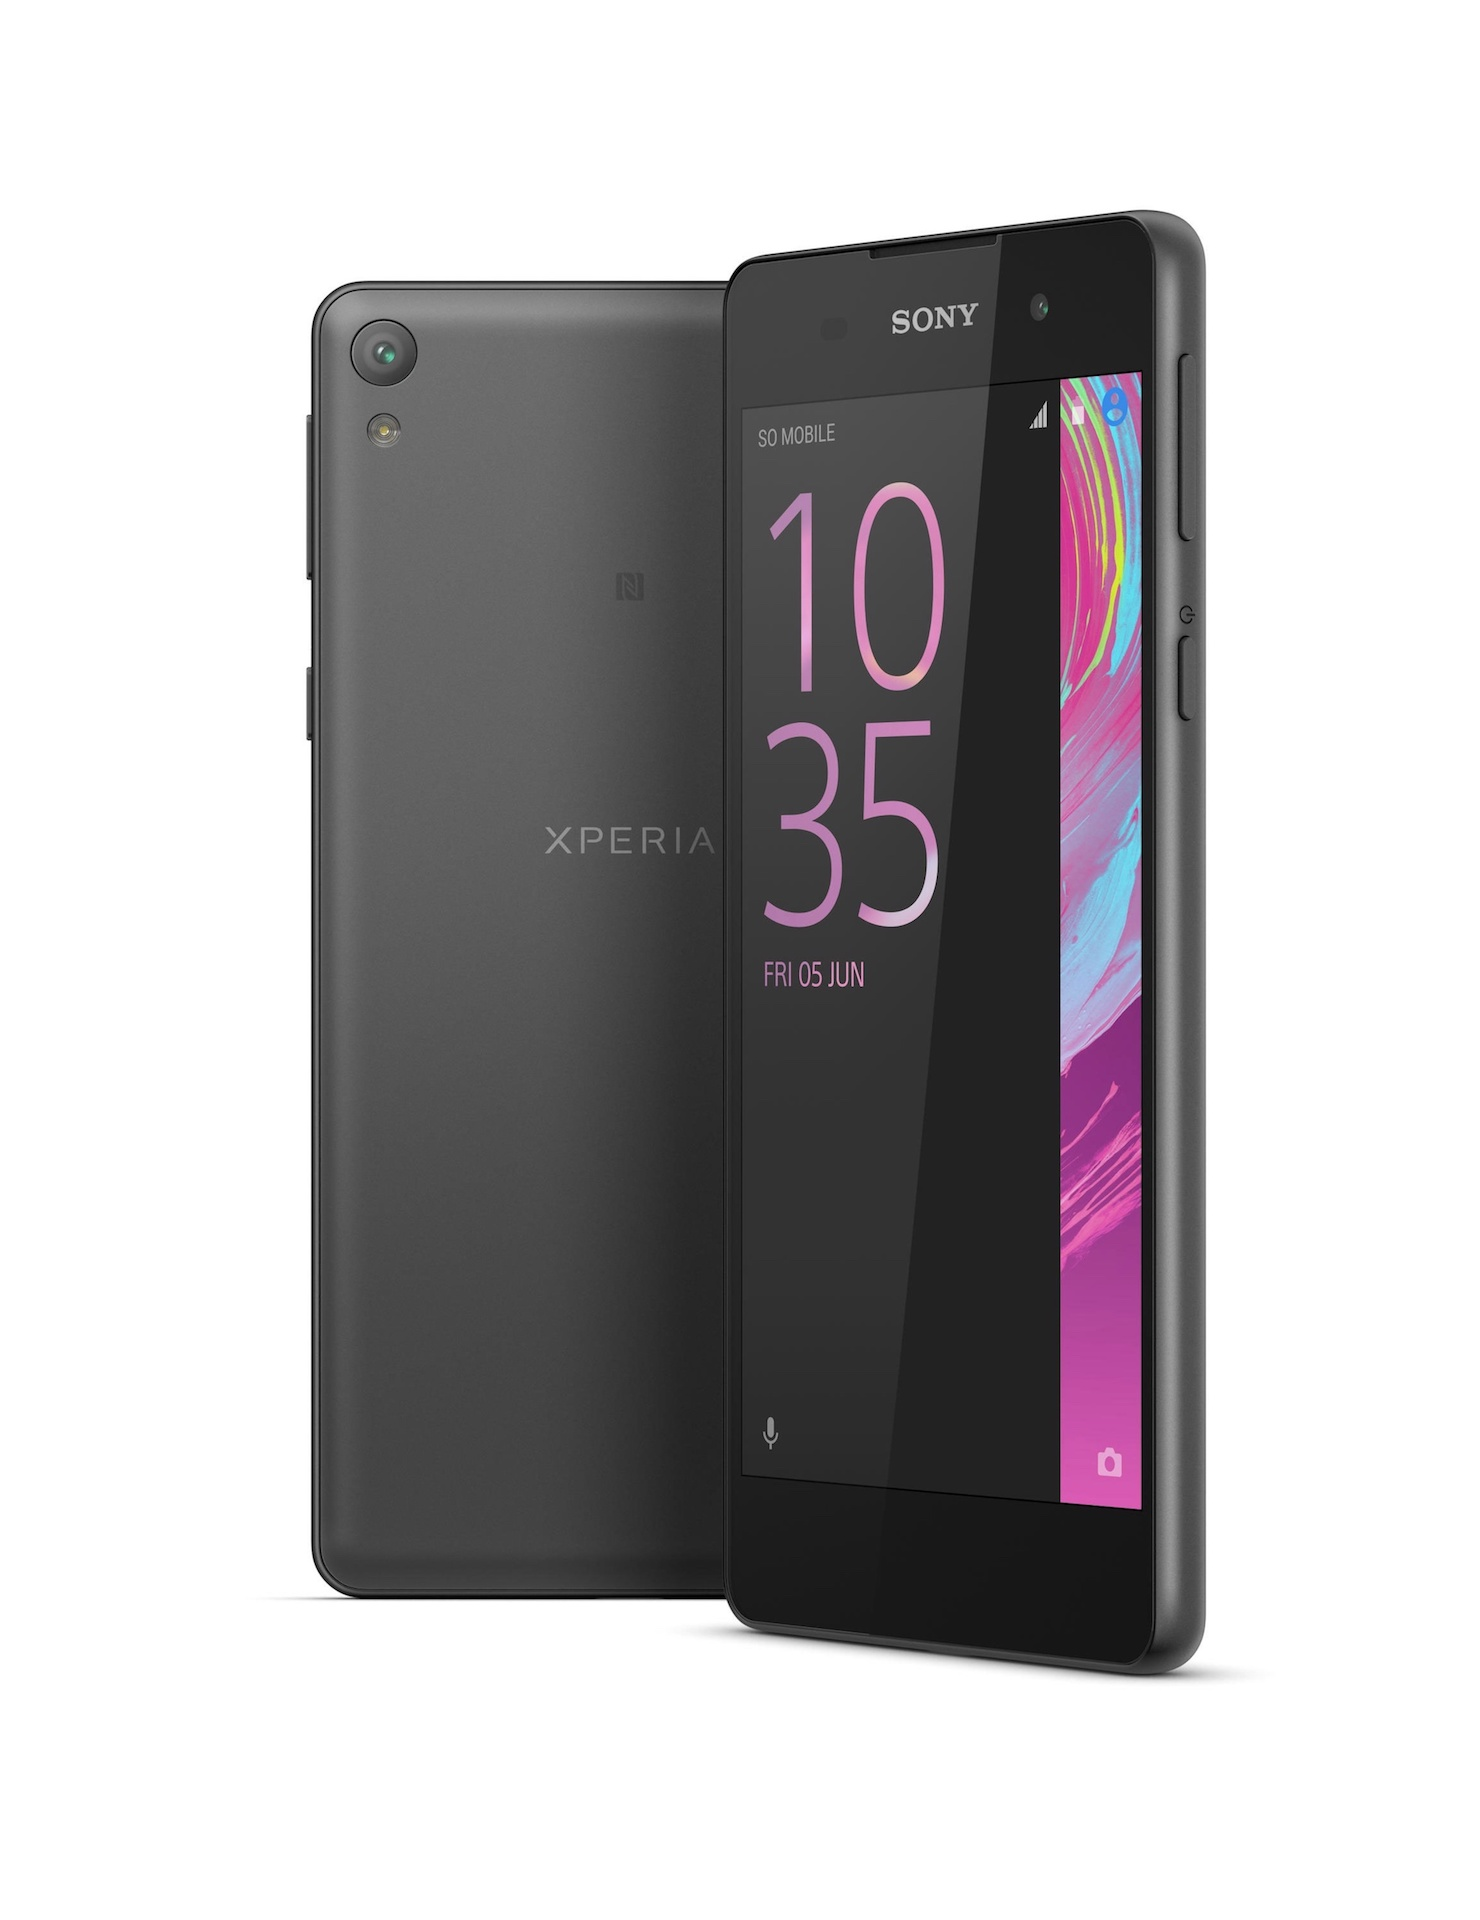smartphone: (723, 202, 1213, 1681), (303, 278, 735, 1606)
